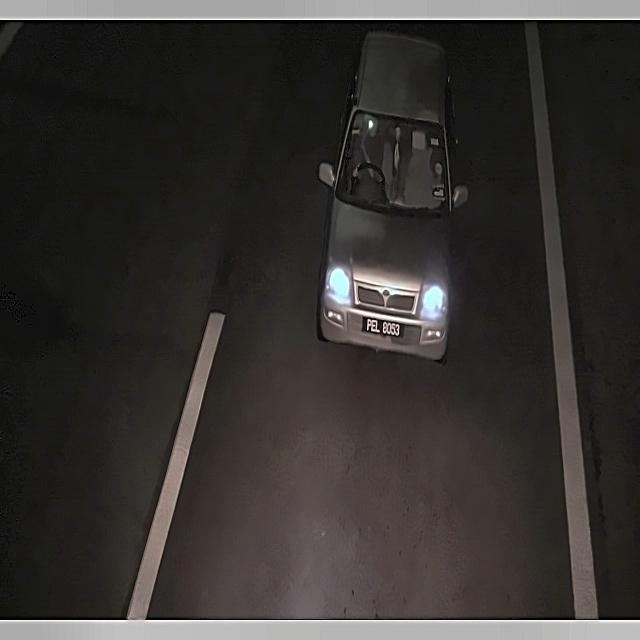car: (358, 311, 412, 344)
